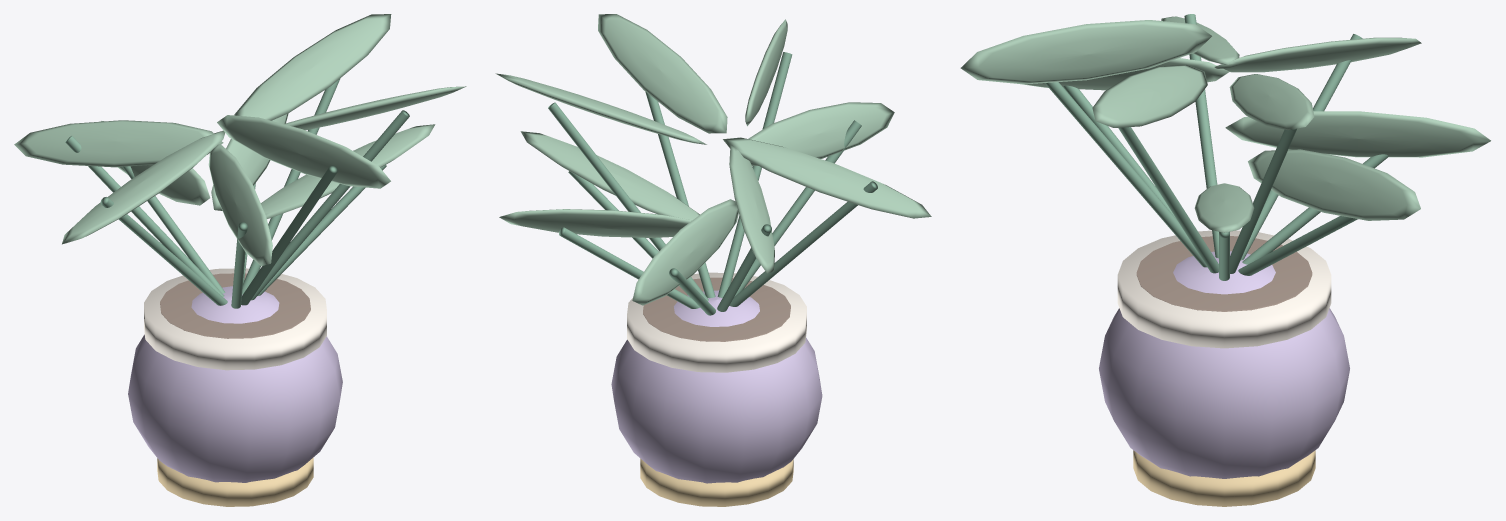
The model's file is palm_planter.glb.
3 views of the same model, side by side, from view 1: azimuth 30°, elevation 25°; view 2: azimuth 150°, elevation 25°; view 3: azimuth 270°, elevation 25° (orthographic). The views are drawn at different scales.
Visible parts, largest first — view 1: palm leaf (×9), rounded pot, leaf stem (×8), pot rim, soil, gold foot; view 2: palm leaf (×9), rounded pot, leaf stem (×9), pot rim, soil, gold foot; view 3: palm leaf (×9), rounded pot, leaf stem (×8), pot rim, soil, gold foot.
Boxes of the visible parts, x1,y1,x2,y2 form: palm leaf (×9): (14, 14, 466, 266); rounded pot: (128, 286, 342, 482); leaf stem (×8): (65, 78, 409, 308); pot rim: (144, 268, 326, 370); soil: (160, 273, 310, 338); gold foot: (157, 457, 313, 506); palm leaf (×9): (495, 14, 931, 305); rounded pot: (611, 290, 822, 483); leaf stem (×9): (548, 52, 877, 315); pot rim: (627, 272, 806, 372); soil: (643, 277, 790, 341); gold foot: (640, 458, 793, 506); palm leaf (×9): (960, 16, 1490, 232); rounded pot: (1099, 251, 1349, 478); leaf stem (×8): (1045, 14, 1388, 275); pot rim: (1117, 230, 1331, 348); soil: (1136, 236, 1312, 311); gold foot: (1133, 450, 1315, 506).
Size of the model in its own units: 1.69 by 1.61 by 1.69.
